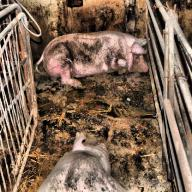boar: (36, 30, 148, 88), (37, 132, 144, 192)
